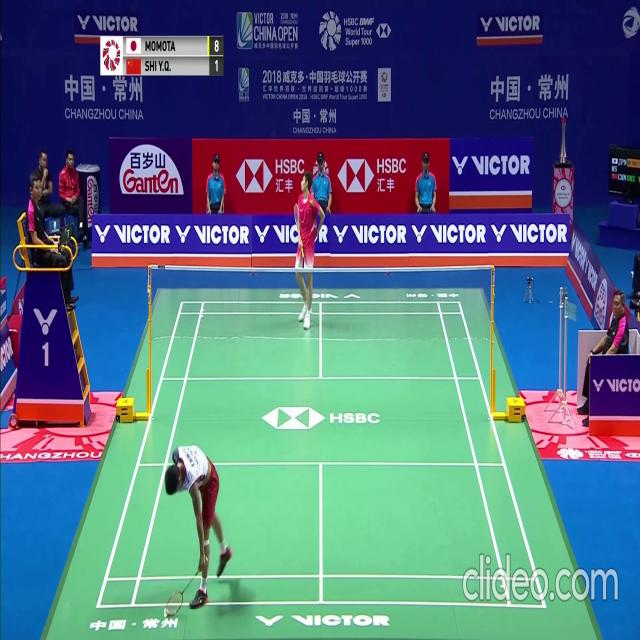Shuttlecock: (163, 608, 167, 615)
